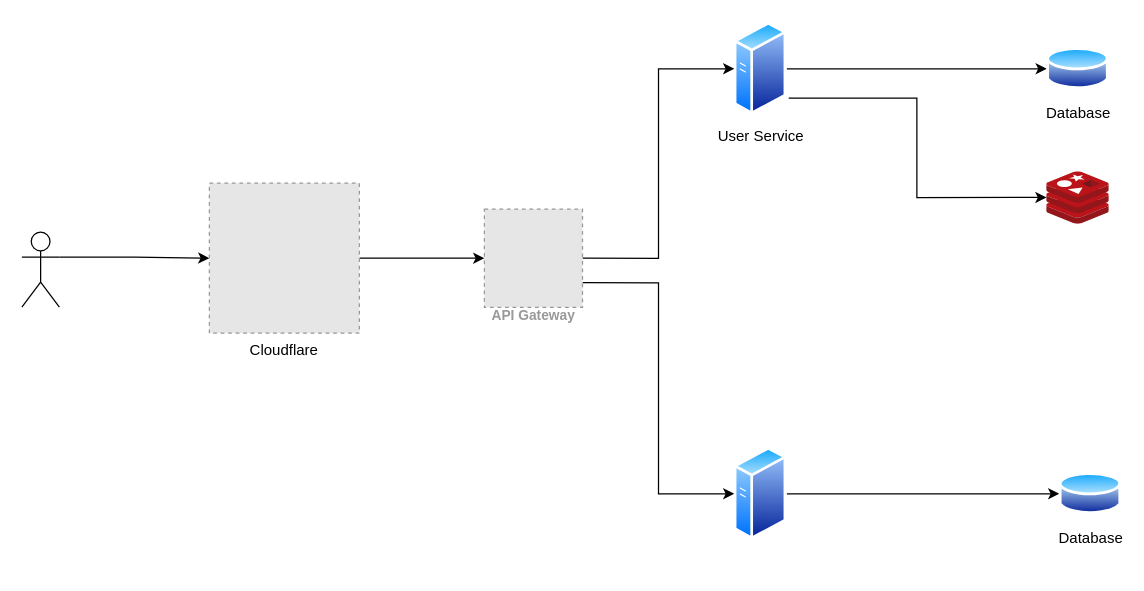
The diagram is 1144 pixels wide and 591 high, and some of its shapes have lost their labels. Grey dashed boxes stand in for pictures. The shapes that lost their labels are listed below. From the top down, each one's centre as x and y in pixels, then its label:
At pixel 1077 197: "Redis".
At pixel 40 269: "User".
At pixel 760 493: "Promotion Service".
